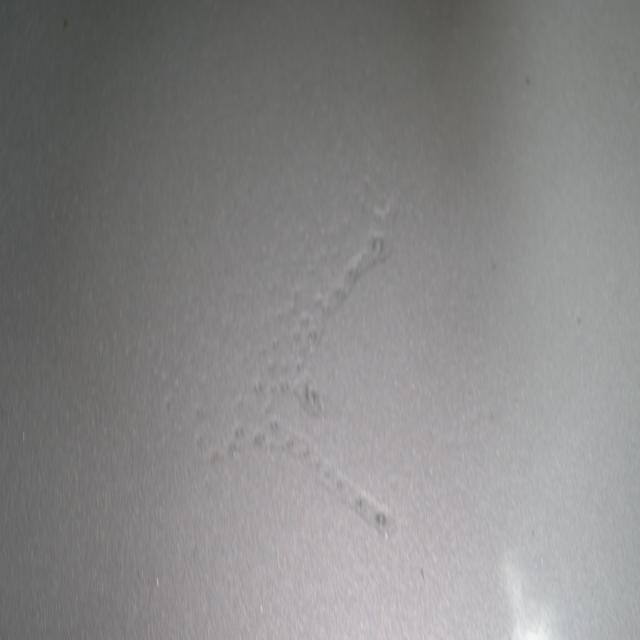dirt: (59, 14, 71, 36), (524, 68, 533, 92)
runs: (183, 186, 400, 540)
